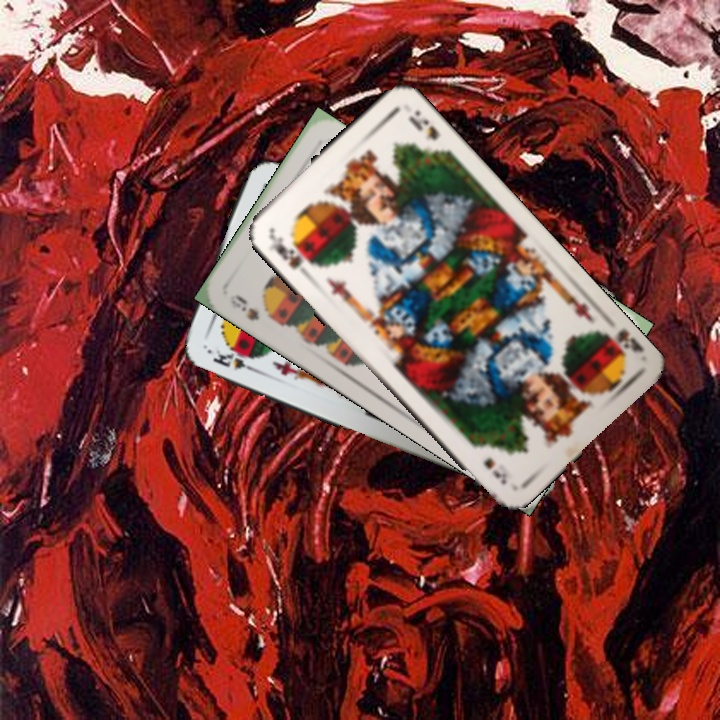S9: (225, 290, 279, 324)
SK: (264, 226, 317, 279), (593, 324, 646, 359), (209, 345, 261, 376)
